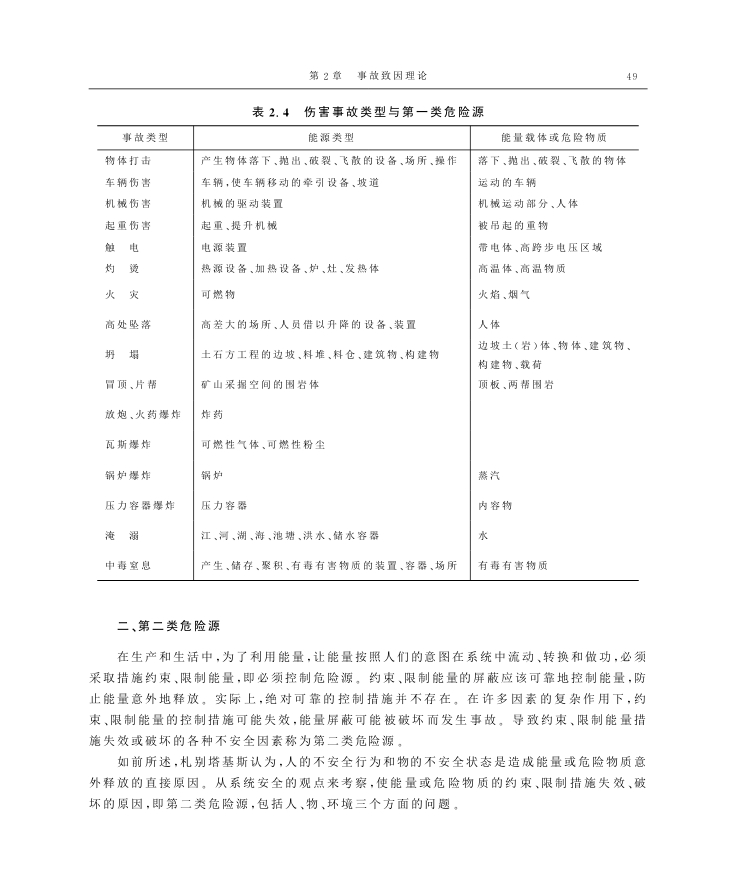table: (97, 125, 639, 581)
